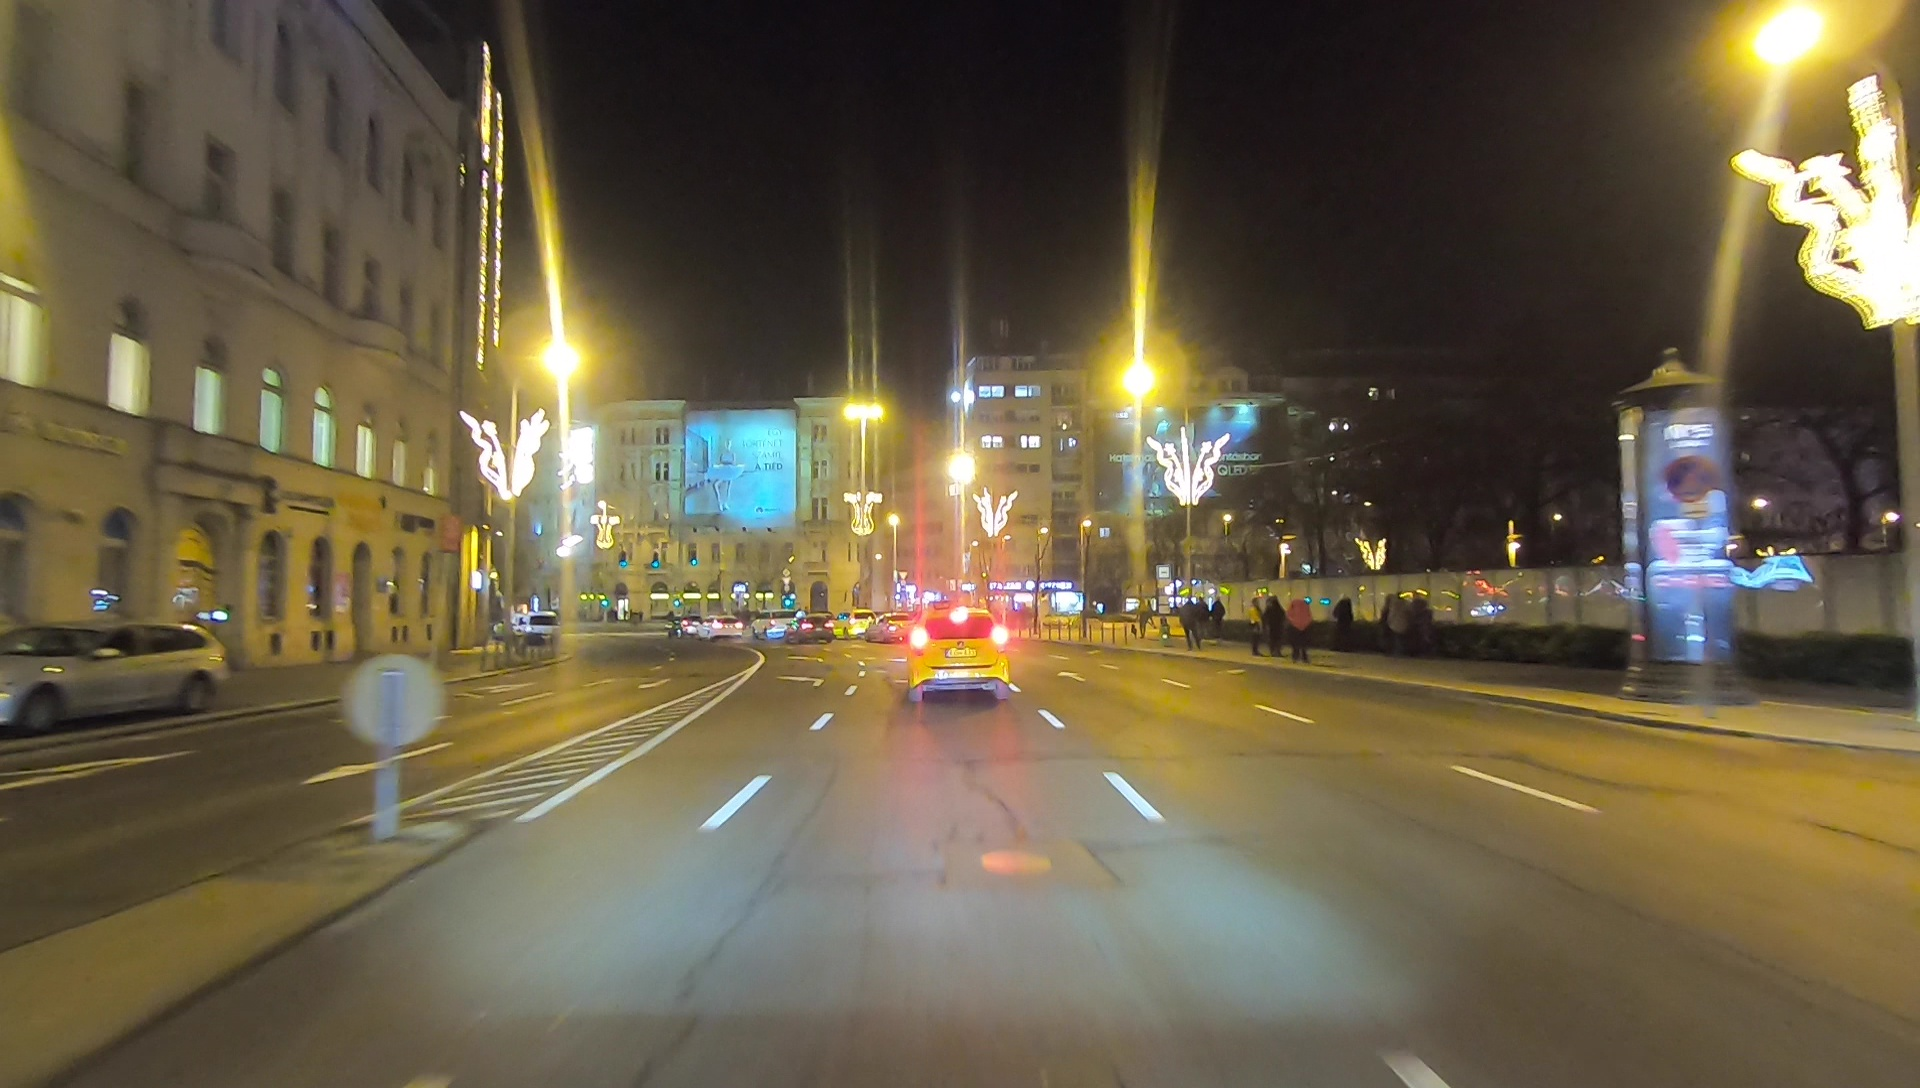person: (1288, 591, 1315, 661), (1265, 591, 1284, 660), (1249, 593, 1267, 663), (1180, 602, 1202, 652)
